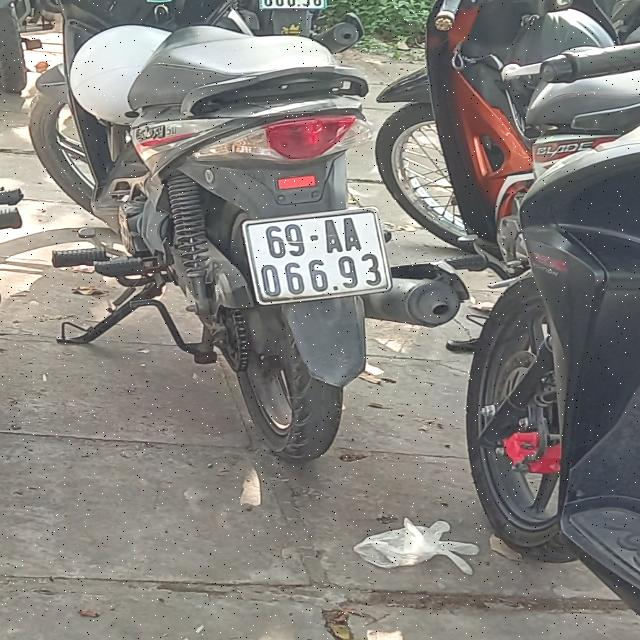0: (262, 264, 280, 297)
3: (362, 253, 382, 288)
6: (265, 225, 286, 261), (285, 261, 306, 297), (308, 259, 329, 293)
9: (284, 222, 304, 256), (339, 256, 358, 290)
A: (343, 218, 361, 253), (323, 219, 341, 253)
